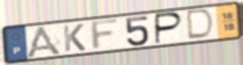5: (123, 14, 151, 47)
A: (24, 25, 64, 58)
D: (186, 8, 216, 41)
F: (89, 17, 122, 52)
K: (62, 23, 88, 53)
P: (154, 11, 185, 46)
